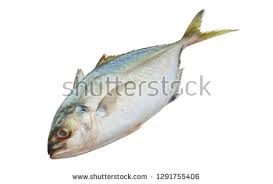Ikan Selar: (45, 14, 221, 162)
